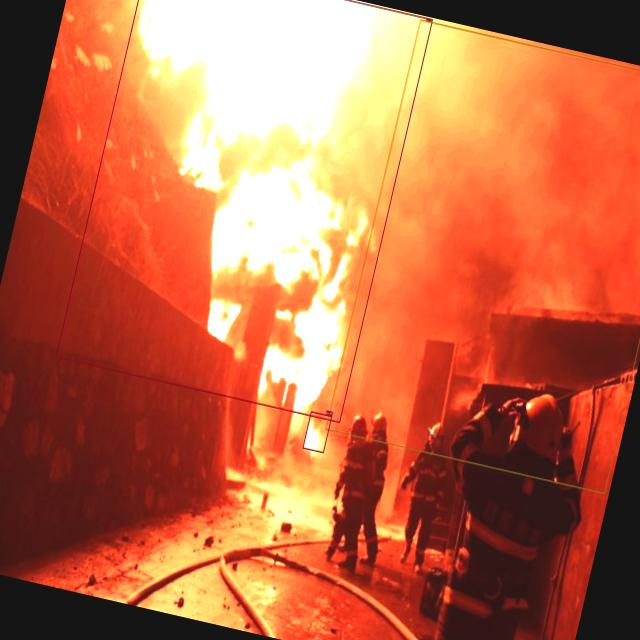fire: (54, 0, 432, 422), (302, 410, 332, 452)
smoke: (325, 18, 640, 493)
